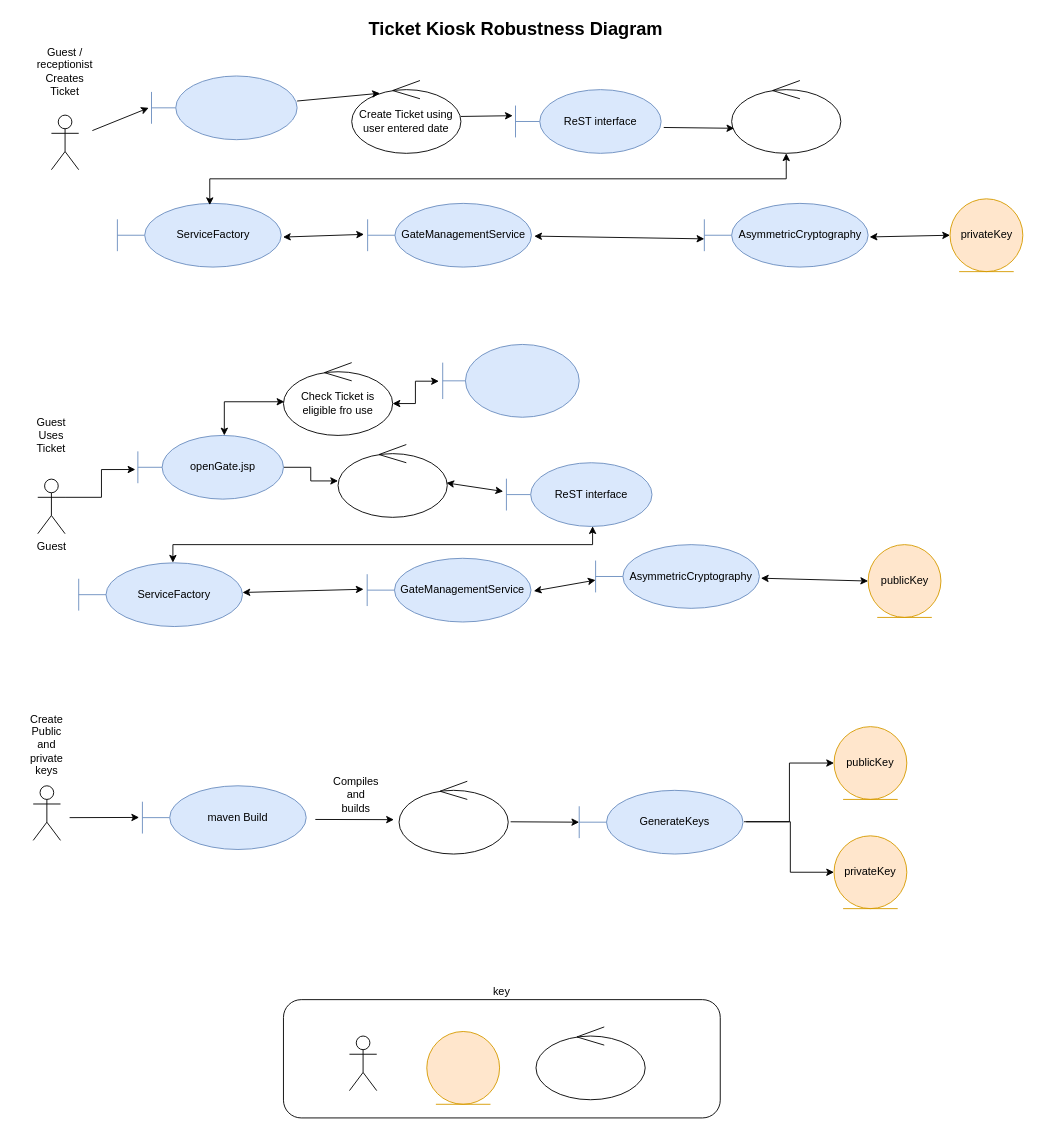
This 1038x1134 diagram has some shape labels left out. Here are the shapes that lost their labels. From the top down, the centre of each, then its label:
At [224,107]: "generateTicket.jsp".
At [786,116]: "Get Encoded ticket".
At [65,142]: "Guest / Receptionist".
At [510,380]: "TicketHandler.java".
At [392,480]: "decode encoded ticket".
At [46,812]: "developer".
At [453,817]: "Build System Pom".
At [363,1063]: "Actor".
At [463,1067]: "Entity Object".
At [590,1063]: "Control".
